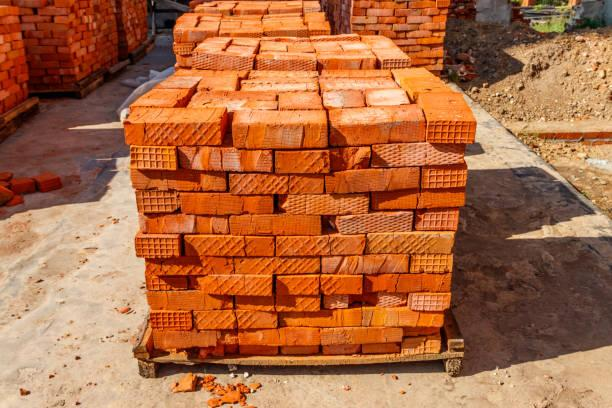Bricks: (280, 309, 447, 330), (234, 124, 328, 149), (181, 150, 269, 176), (192, 88, 277, 112), (186, 235, 269, 258), (374, 142, 464, 163), (242, 328, 326, 350), (229, 215, 323, 234), (330, 214, 411, 236), (268, 236, 359, 255), (332, 173, 420, 192), (120, 124, 210, 142), (137, 219, 237, 235), (134, 173, 227, 190), (370, 274, 453, 293), (154, 328, 246, 345), (238, 257, 303, 281), (370, 193, 464, 209), (282, 194, 365, 212), (192, 272, 266, 292), (148, 290, 233, 307), (134, 106, 219, 123), (323, 327, 413, 343), (327, 254, 405, 272), (368, 235, 450, 252), (328, 125, 424, 139), (323, 294, 409, 309), (240, 110, 325, 125), (230, 174, 290, 195), (336, 108, 418, 123), (415, 207, 463, 232), (426, 92, 463, 122), (328, 71, 393, 88), (155, 262, 231, 275), (277, 155, 325, 174), (366, 87, 409, 108), (142, 85, 183, 107), (434, 120, 473, 143), (248, 74, 322, 86), (328, 87, 368, 109), (131, 148, 172, 169), (425, 166, 463, 188), (238, 309, 282, 328), (184, 196, 233, 213), (278, 295, 327, 312), (336, 145, 368, 170), (142, 191, 180, 212), (137, 236, 174, 257), (411, 252, 452, 270), (163, 69, 201, 88), (275, 278, 319, 294), (324, 274, 362, 292), (231, 293, 271, 310), (196, 310, 230, 327), (287, 89, 316, 108), (155, 311, 194, 325), (410, 294, 441, 311), (146, 277, 188, 289), (295, 177, 322, 194), (408, 79, 442, 92), (203, 75, 235, 88), (397, 66, 426, 79)
